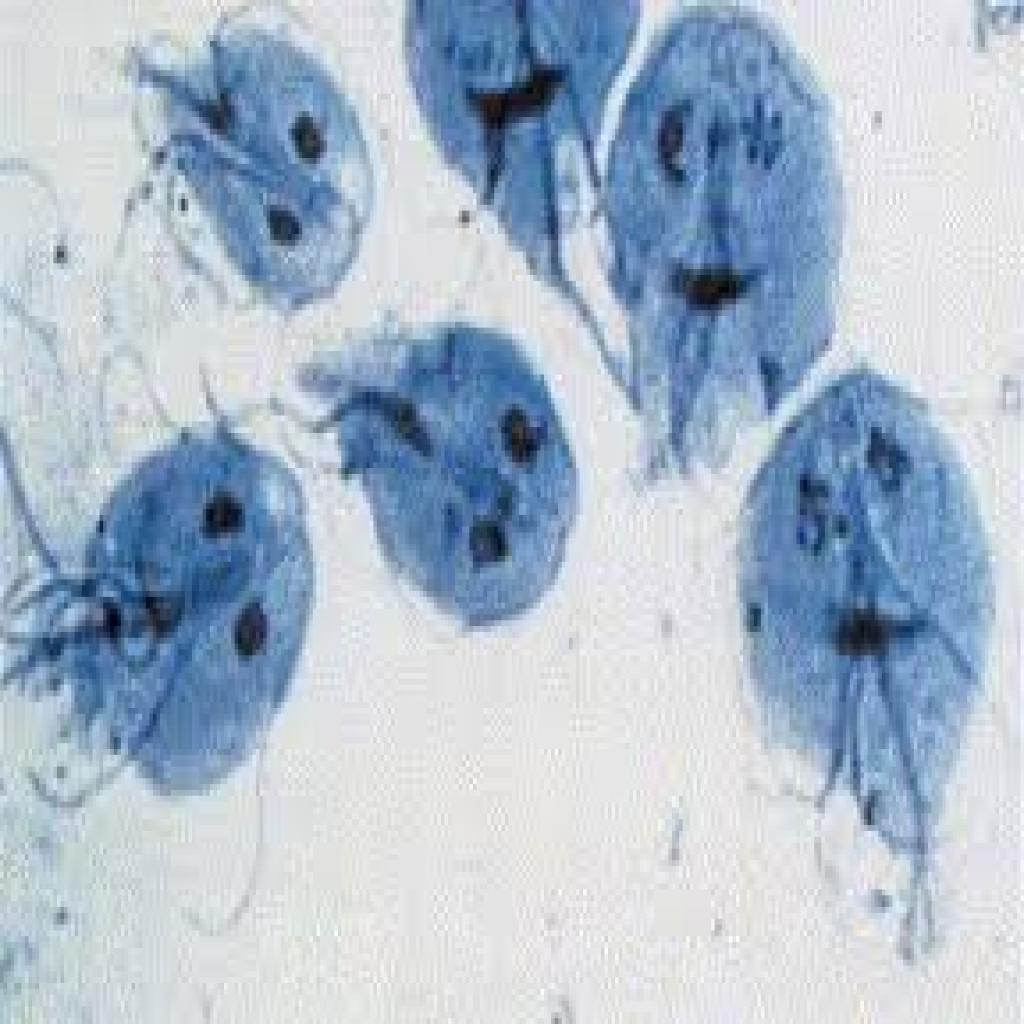Giardia: (714, 363, 996, 913), (14, 421, 320, 837), (604, 0, 850, 451), (310, 316, 580, 638), (388, 0, 640, 316), (124, 6, 377, 310)
